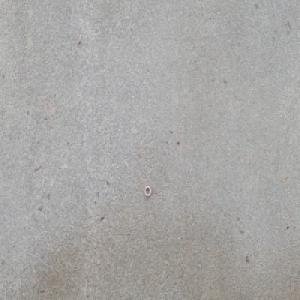Nut: (143, 184, 151, 197)
